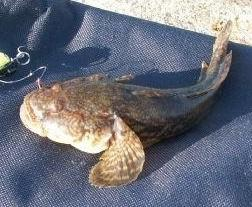Goby: (21, 18, 242, 192)
